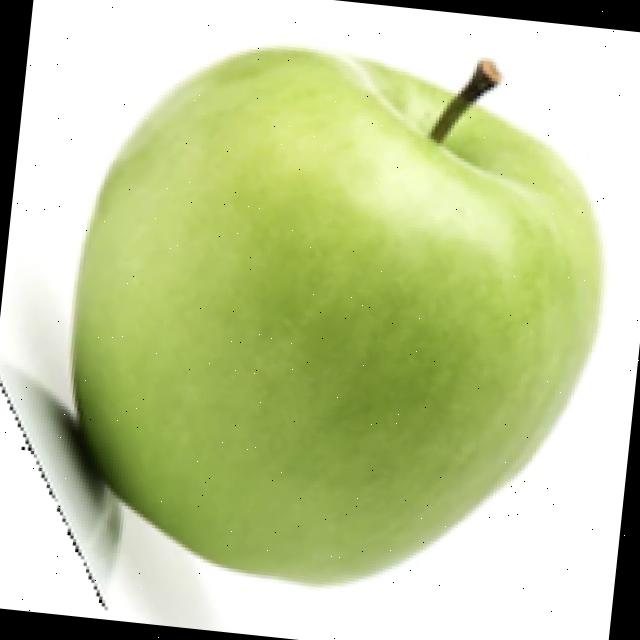apple: (0, 40, 610, 621)
